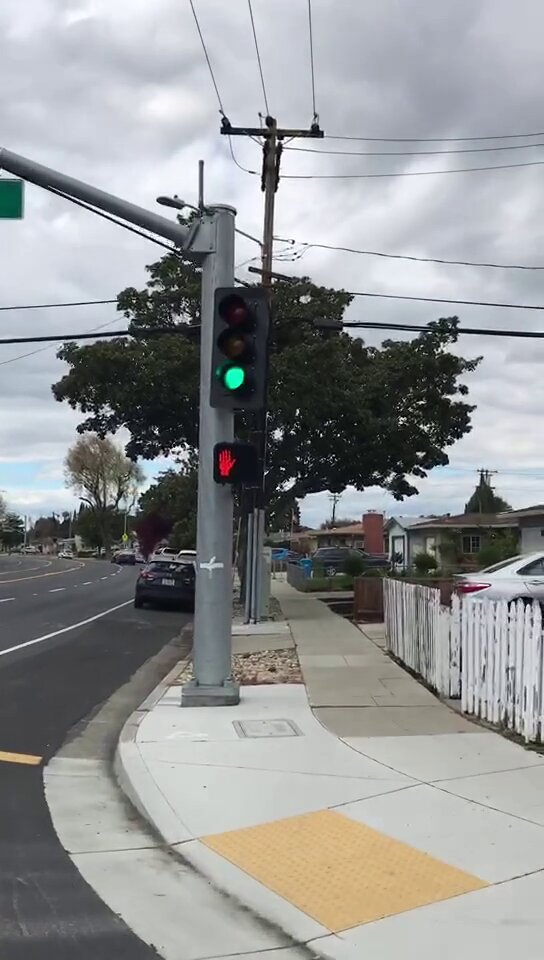green_light: (214, 287, 266, 406)
